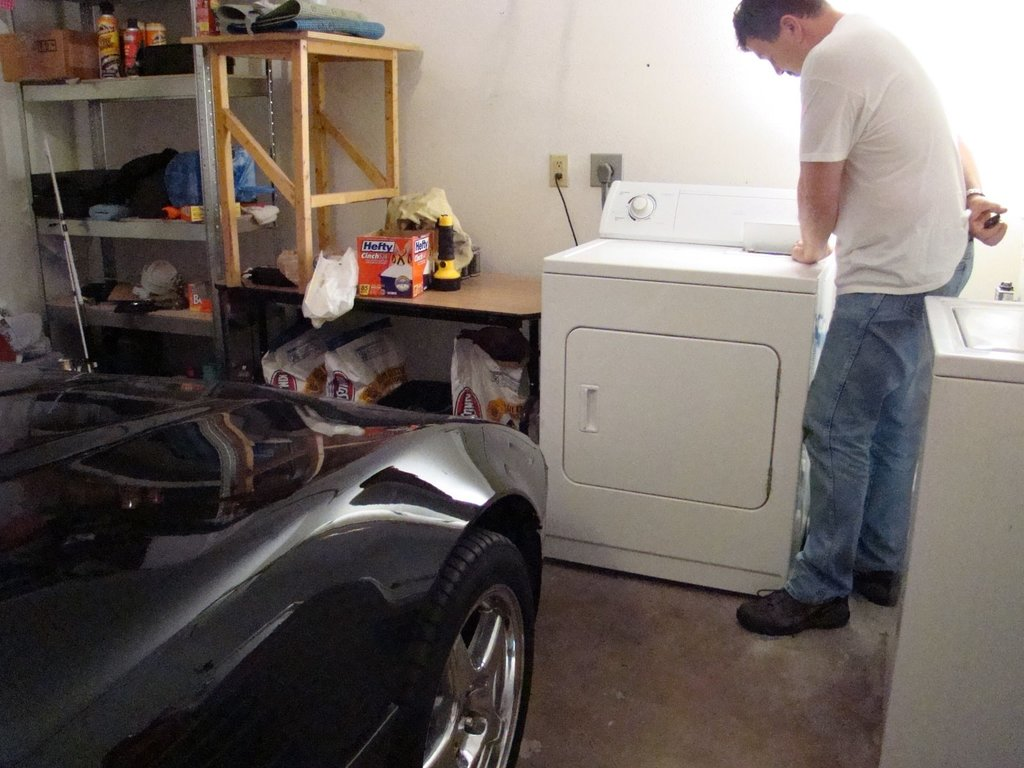Car: (0, 361, 554, 767)
